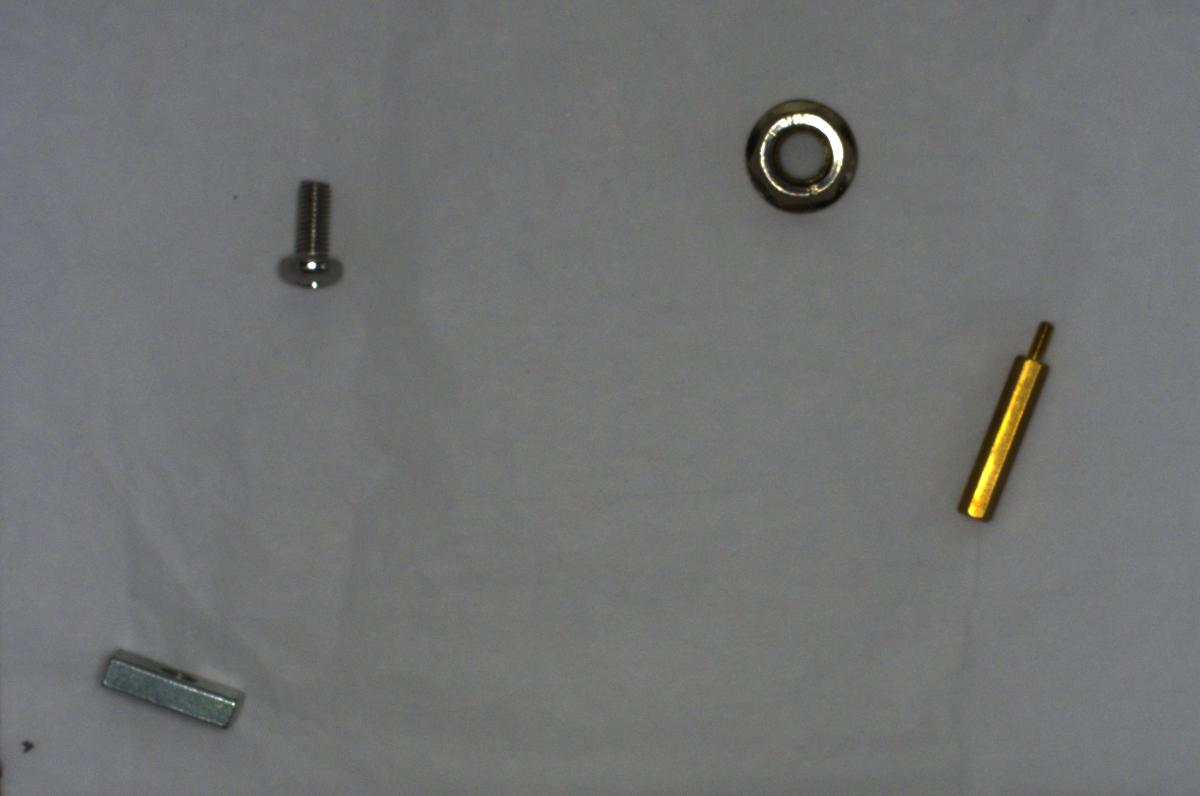Flange nut: (737, 94, 866, 213)
Hexagon pillar: (946, 310, 1060, 525)
Rectangular nut: (95, 638, 247, 734)
Round head screw: (271, 169, 347, 299)
